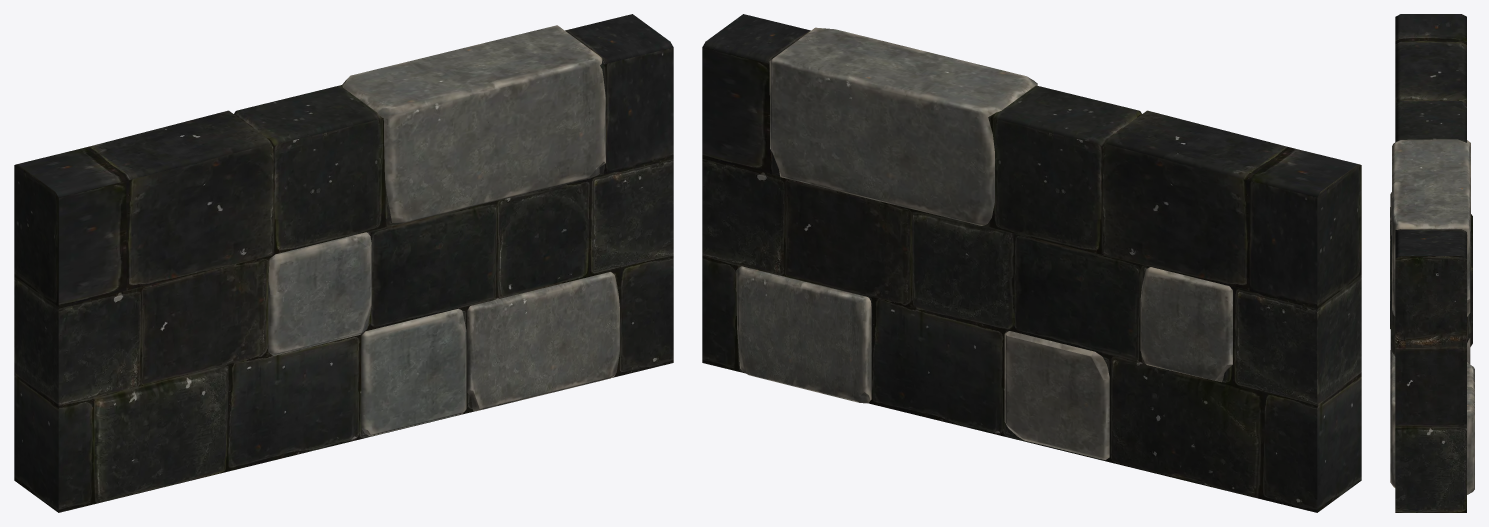
3 renders of one model, left to right at view 1: azimuth 30°, elevation 25°; view 2: azimuth 150°, elevation 25°; view 3: azimuth 270°, elevation 25°, orthographic. The views are drawn at different scales.
Visible parts, largest first — view 1: SM_DeathTemple_Wall_4x2_01_v1_LOD0; view 2: SM_DeathTemple_Wall_4x2_01_v1_LOD0; view 3: SM_DeathTemple_Wall_4x2_01_v1_LOD0.
Boxes of the visible parts, <box> form: SM_DeathTemple_Wall_4x2_01_v1_LOD0: <box>14,14,673,512</box>; SM_DeathTemple_Wall_4x2_01_v1_LOD0: <box>702,14,1361,512</box>; SM_DeathTemple_Wall_4x2_01_v1_LOD0: <box>1390,14,1474,512</box>.
Size of the model in its own units: 4 by 2 by 0.5928.
Materials: 2 (2 with a texture image).
